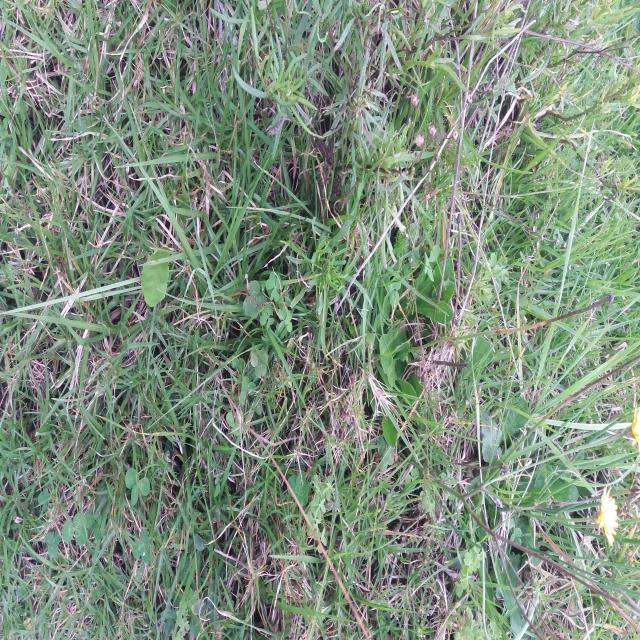Four Leaf Clover: (341, 208, 368, 249), (243, 280, 267, 318)
